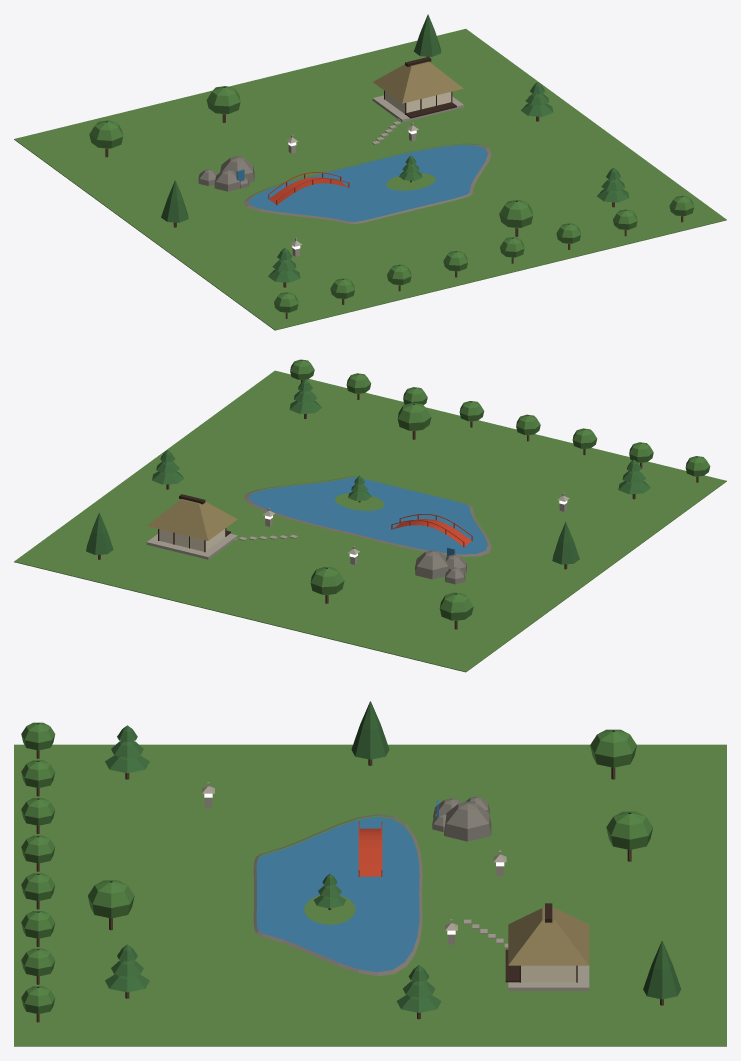
File: japanese_garden.glb
3 views of the same model, one above another, from view 1: azimuth 30°, elevation 25°; view 2: azimuth 150°, elevation 25°; view 3: azimuth 270°, elevation 25° (orthographic). The views are drawn at different scales.
Parts seen in each view (by area): view 1: Garden_static; view 2: Garden_static; view 3: Garden_static.
Part boxes in pixels (x1,y1,x2,y2): Garden_static: [14, 14, 726, 330]; Garden_static: [14, 359, 726, 672]; Garden_static: [14, 701, 726, 1046].
Bounding box in the file's own units: 88 × 8.8 × 88.
